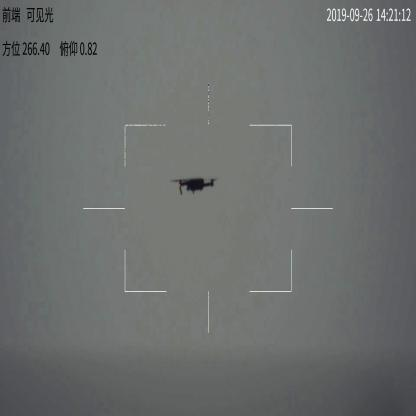uav: (174, 171, 223, 198)
